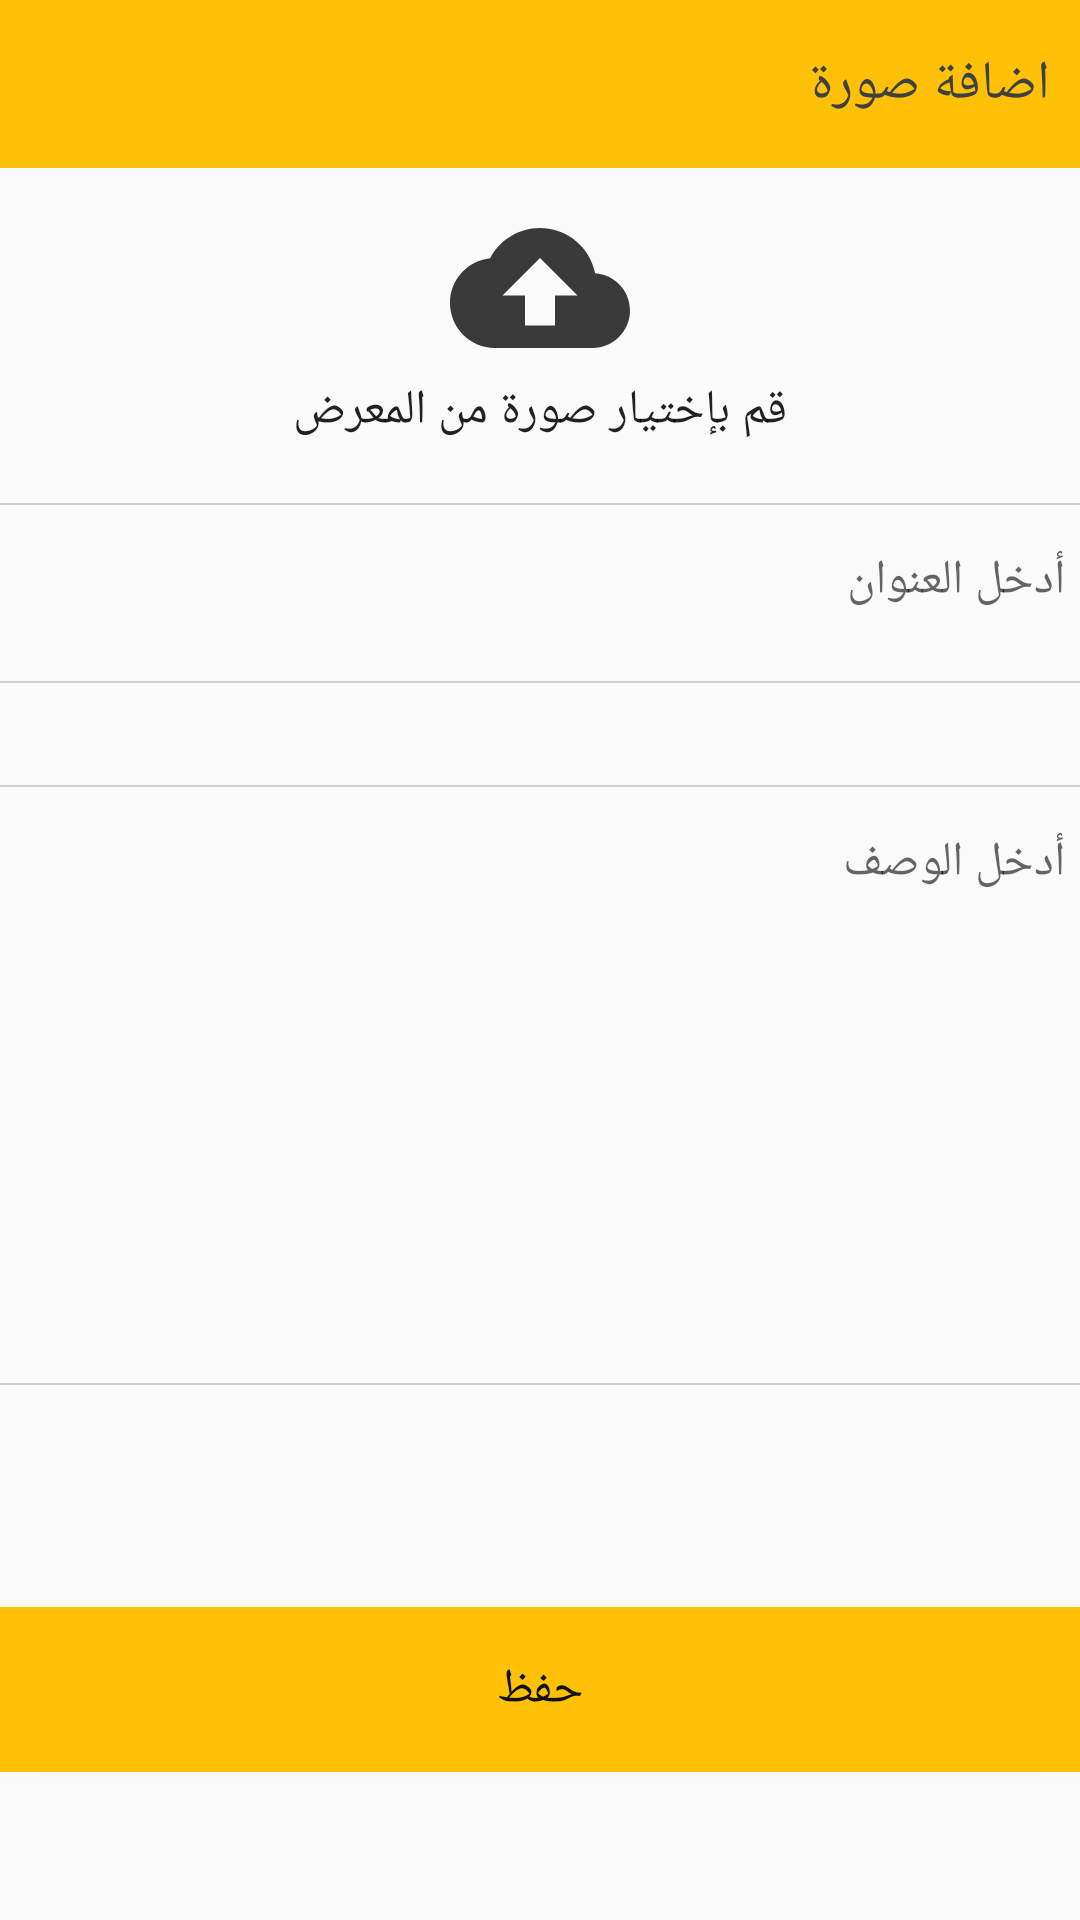

Screen size 1080w x 1920h. Icon name, then its box in pixels as (x1, y1, x2, y2):
cloud upload: (450, 228, 630, 348)
